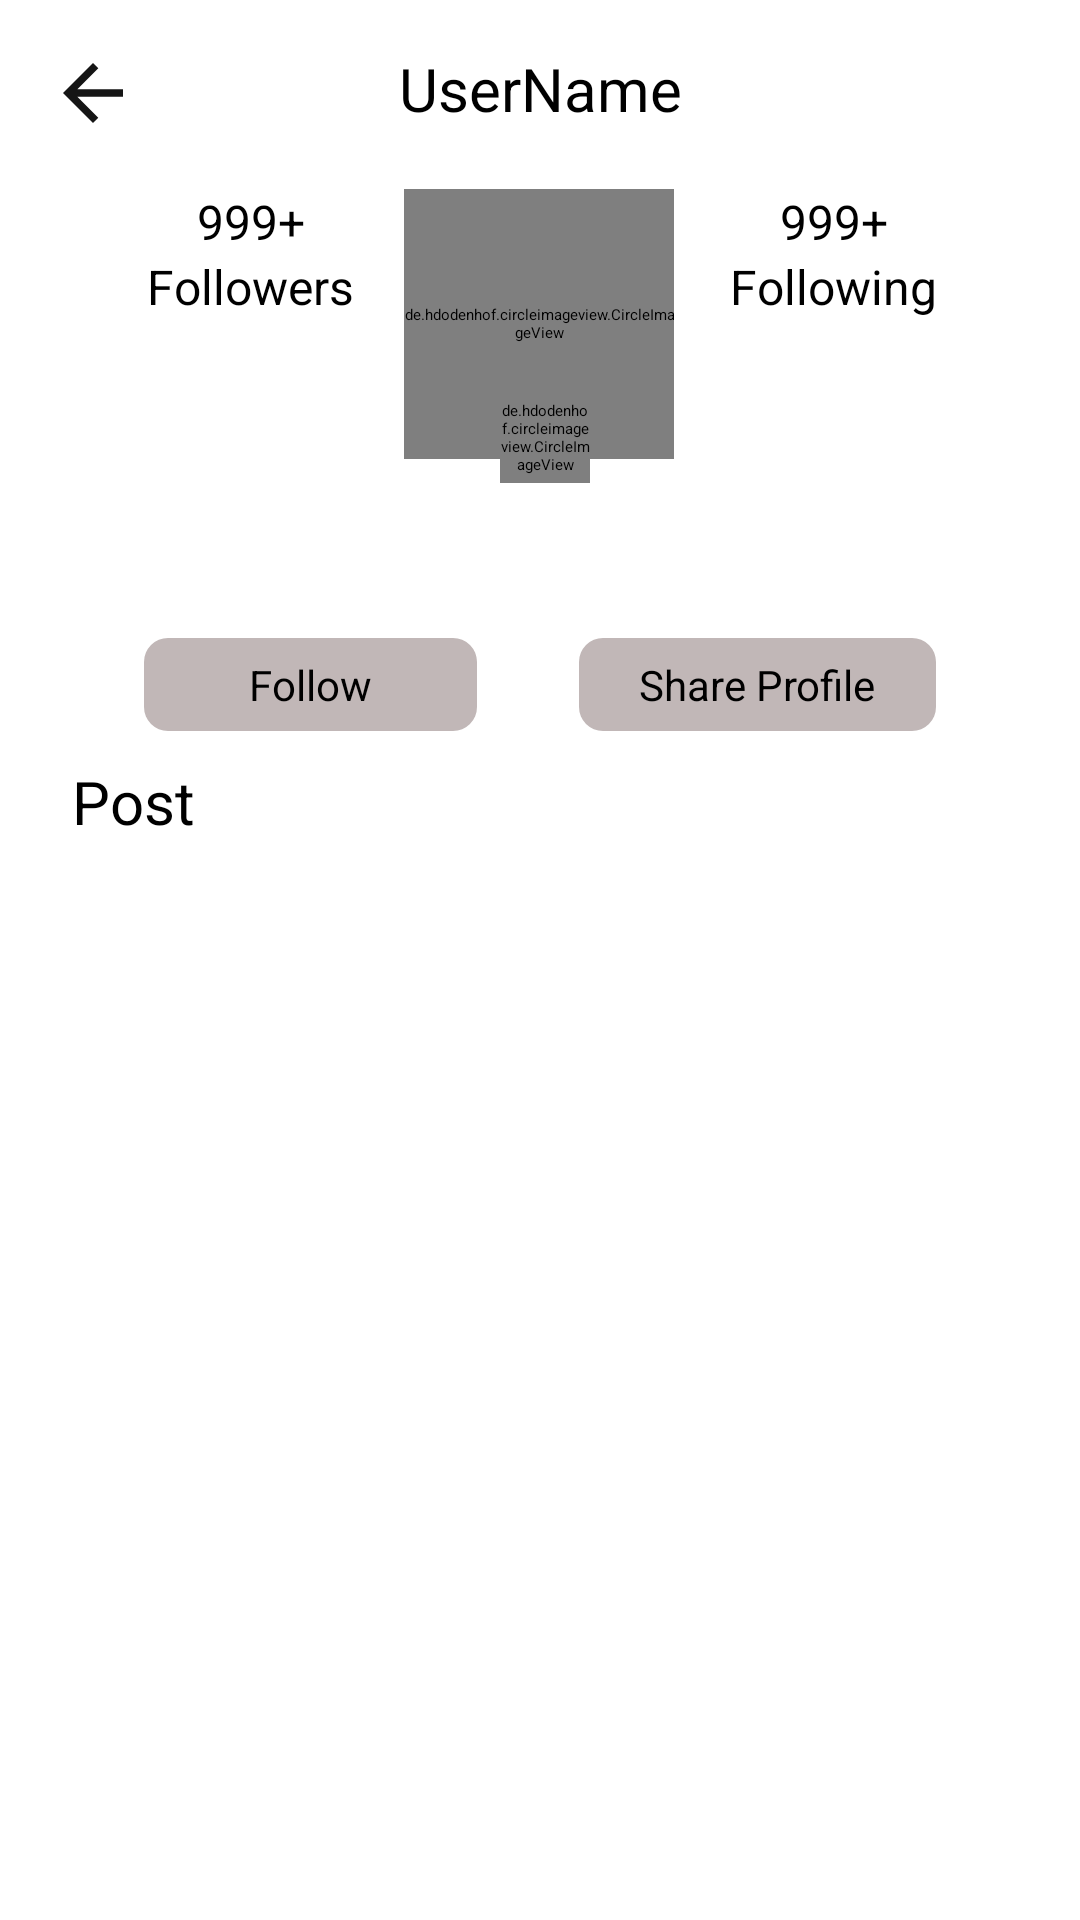

Icon click points for this 1080w x 1920h phone screenshot, format point (x, y):
arrow back: point (93, 93)
